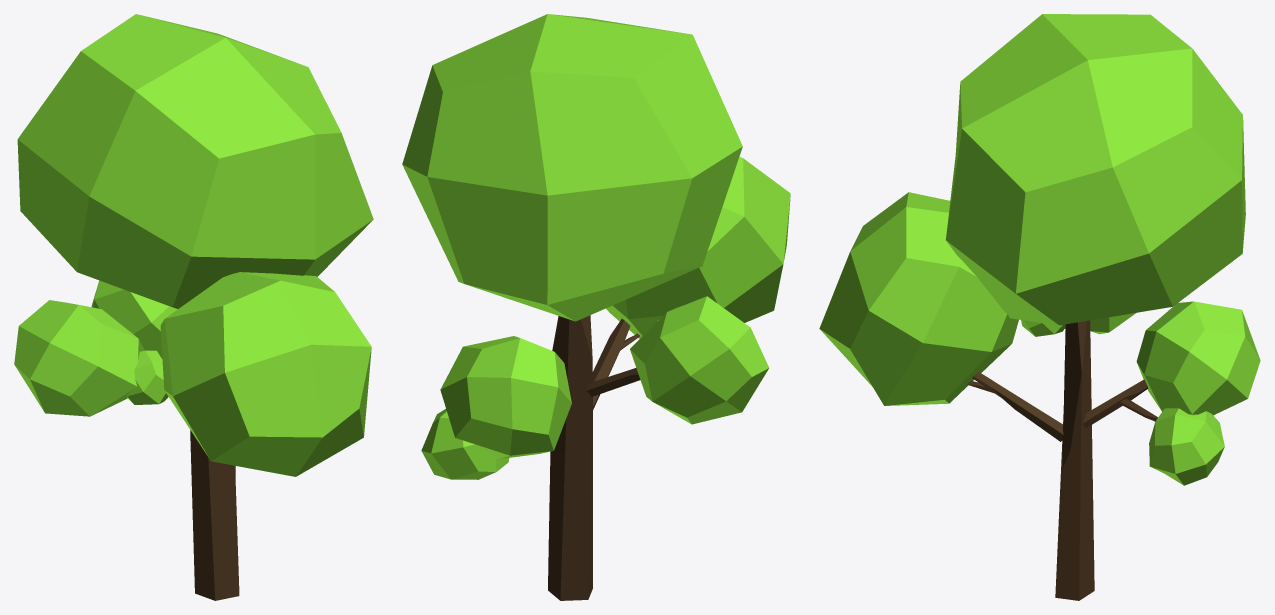
Rendered from Дерево В1.fbx.
3 renders of one model, left to right at view 1: azimuth 30°, elevation 25°; view 2: azimuth 150°, elevation 25°; view 3: azimuth 270°, elevation 25°, orthographic. The views are drawn at different scales.
Visible parts, largest first — view 1: дерево В1; view 2: дерево В1; view 3: дерево В1.
Part boxes in pixels (<box>): дерево В1: <box>14,14,373,600</box>; дерево В1: <box>402,14,790,600</box>; дерево В1: <box>819,14,1260,600</box>.
Size of the model in its own units: 275 by 457 by 339.
